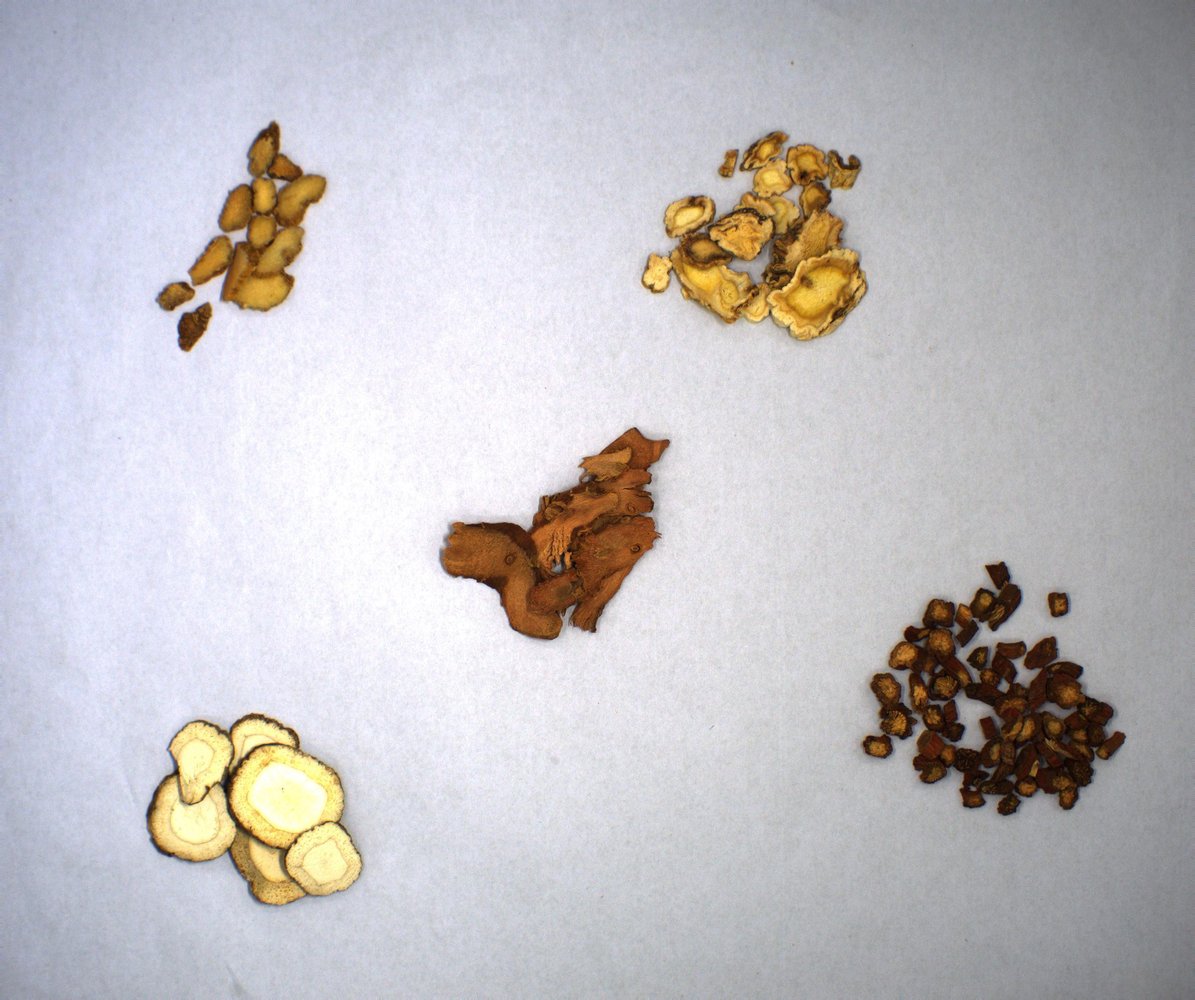baizhi: (124, 678, 412, 925)
danshen: (828, 522, 1147, 870)
gaoliangjiang: (422, 411, 702, 650)
jiegeng: (622, 98, 908, 399)
yuzhu: (131, 84, 350, 397)
